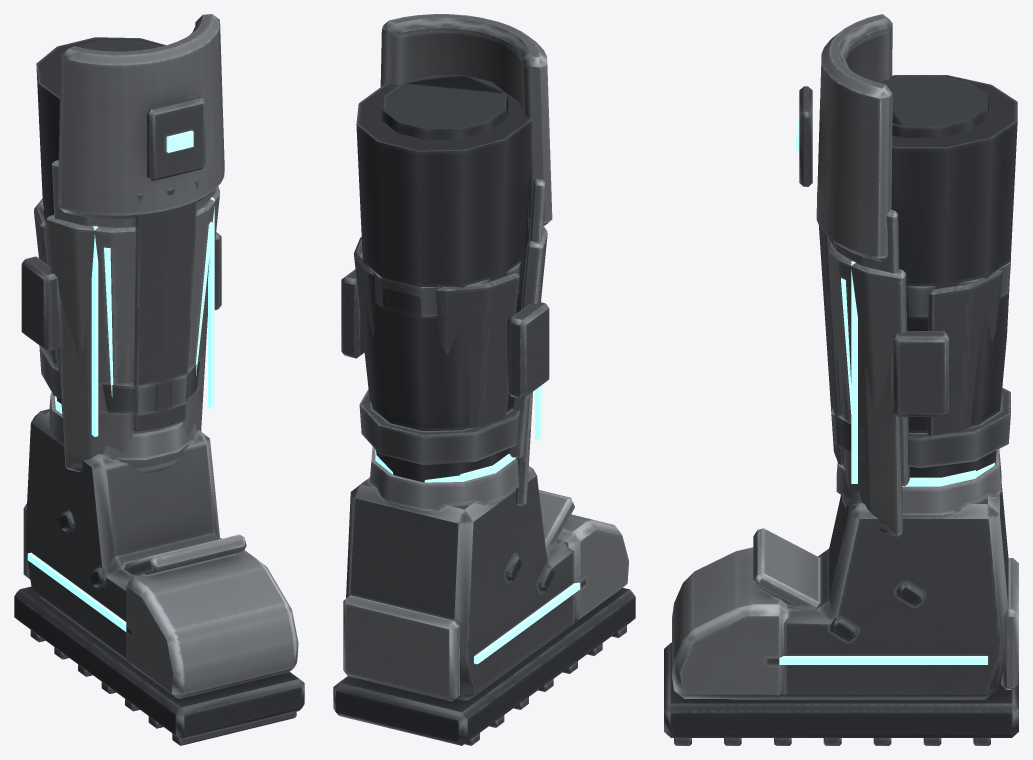
Rendered from boot.glb.
The picture shows the model from 3 angles, left to right: view 1: azimuth 30°, elevation 25°; view 2: azimuth 150°, elevation 25°; view 3: azimuth 270°, elevation 25°; orthographic projection. The views are drawn at different scales.
Visible parts, largest first — view 1: leg_shin, leg_thigh; view 2: leg_shin, leg_thigh; view 3: leg_shin, leg_thigh.
Boxes of the visible parts, x1=… form: leg_shin: x1=14, y1=14, x2=304, y2=745; leg_thigh: x1=21, y1=37, x2=221, y2=472; leg_shin: x1=333, y1=14, x2=635, y2=745; leg_thigh: x1=341, y1=84, x2=549, y2=505; leg_shin: x1=664, y1=14, x2=1018, y2=745; leg_thigh: x1=817, y1=75, x2=1017, y2=536.
Size of the model in its own units: 0.196 by 0.662 by 0.32.
1 material, 1 textured.
